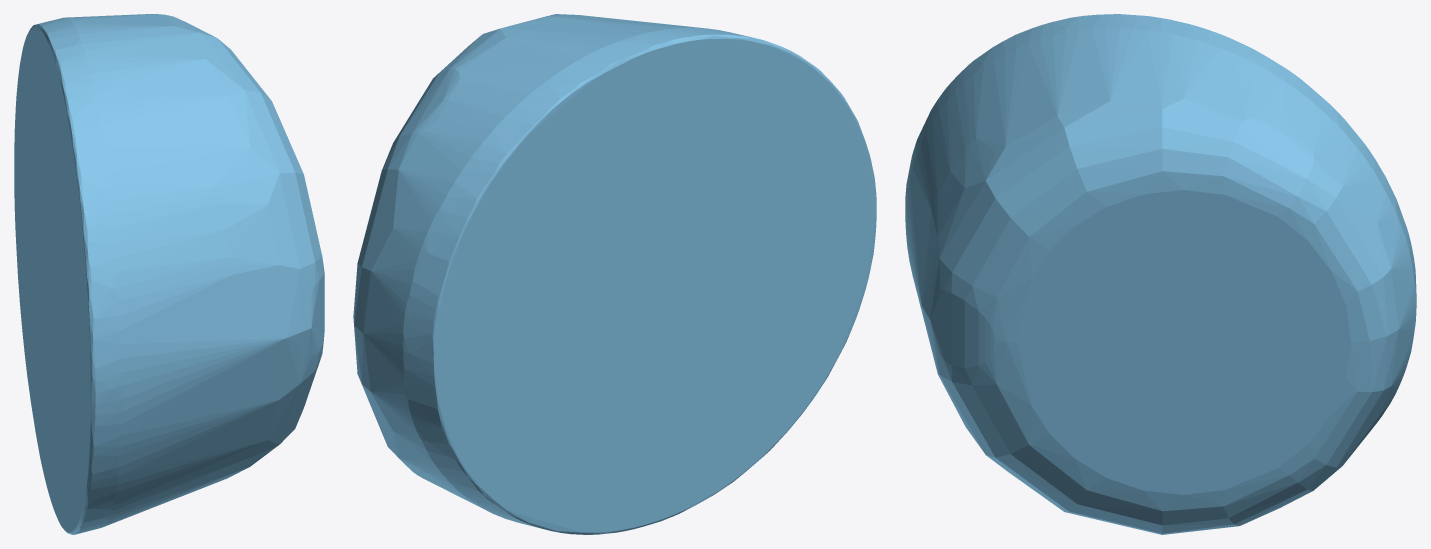
The model's file is industrial_06397_link_3_respondable_respondable_respondable_respondable_respondable_visual_vis_3.dae.
3 views of the same model, side by side, from view 1: azimuth 30°, elevation 25°; view 2: azimuth 150°, elevation 25°; view 3: azimuth 270°, elevation 25° (orthographic). The views are drawn at different scales.
Visible parts, largest first — view 1: node; view 2: node; view 3: node.
Boxes of the visible parts, bbox=[...] form: node: bbox=[14, 14, 324, 534]; node: bbox=[353, 14, 876, 534]; node: bbox=[905, 14, 1416, 534].
Bounding box in the file's own units: 0.0496 × 0.0785 × 0.0785.
